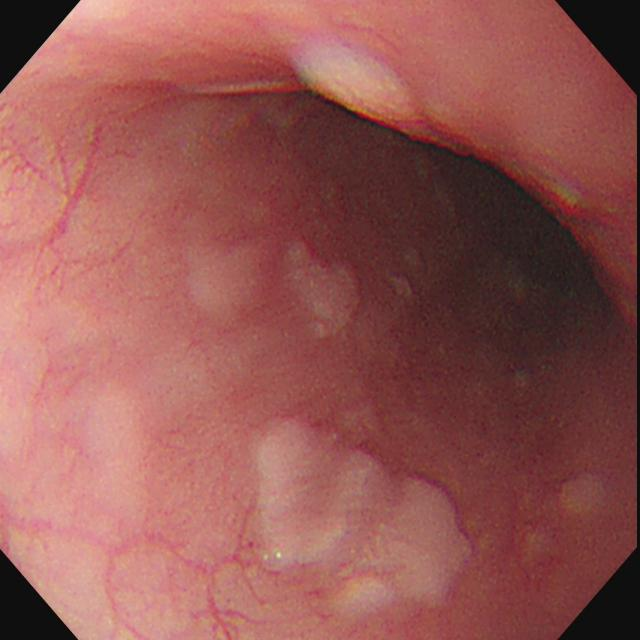E: (416, 137, 618, 351)
J: (234, 410, 481, 622), (289, 31, 434, 131), (173, 227, 262, 341), (279, 229, 373, 334)
